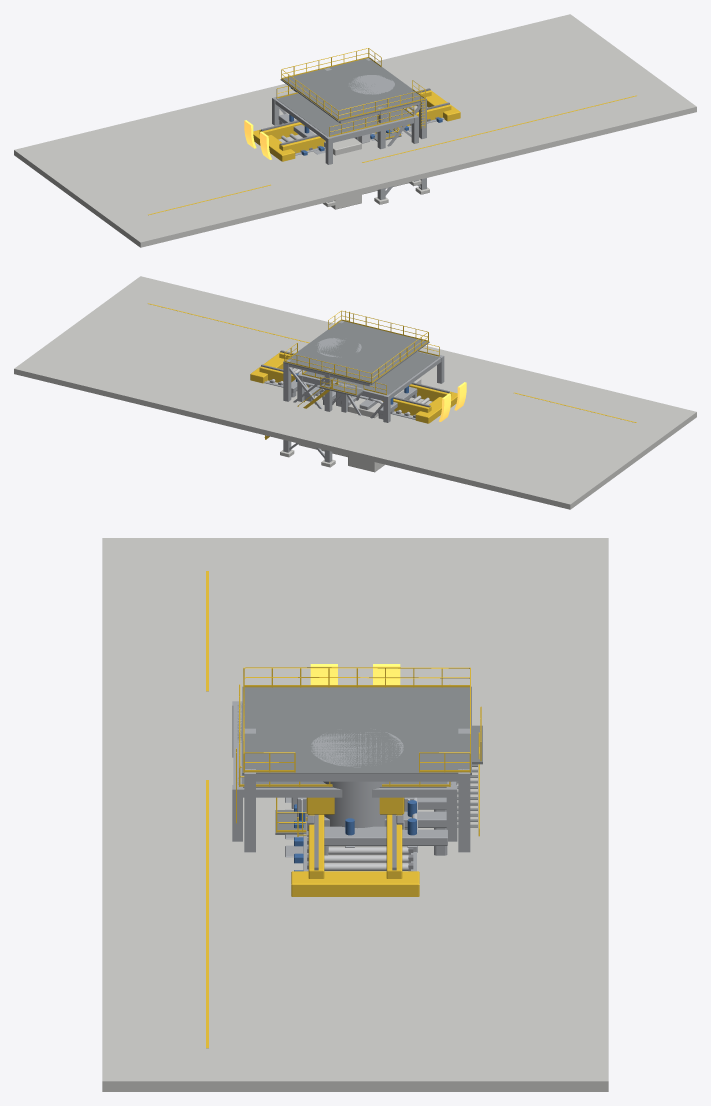
The model's file is continuous_casting.glb.
The picture shows the model from 3 angles, top to bottom: view 1: azimuth 30°, elevation 25°; view 2: azimuth 150°, elevation 25°; view 3: azimuth 270°, elevation 25°; orthographic projection. The views are drawn at different scales.
Parts seen in each view (by area): view 1: Floor_Slab, C1_Turret_Structure, C2_Casting_Floor, C1_Ladle_Crane, C4_Strands_Hot, C6_Runout_Roller_Table, C5_Withdrawal_Straightener; view 2: Floor_Slab, C1_Turret_Structure, C2_Casting_Floor, C1_Ladle_Crane, C5_Withdrawal_Straightener, C4_Strands_Hot; view 3: Floor_Slab, C1_Turret_Structure, C1_Ladle_Crane, C2_Casting_Floor, C5_Withdrawal_Straightener, C6_Runout_Roller_Table, C4_Strands_Hot.
Part boxes in pixels (x1,y1,x2,y2): Floor_Slab: (14,14,696,247); C1_Turret_Structure: (280,48,429,209); C2_Casting_Floor: (272,85,421,206); C1_Ladle_Crane: (253,88,460,161); C4_Strands_Hot: (244,120,271,159); C6_Runout_Roller_Table: (281,104,444,155); C5_Withdrawal_Straightener: (278,113,411,154); Floor_Slab: (14,276,696,509); C1_Turret_Structure: (280,310,429,472); C2_Casting_Floor: (264,344,444,439); C1_Ladle_Crane: (250,350,457,423); C5_Withdrawal_Straightener: (291,373,417,419); C4_Strands_Hot: (439,382,466,421); Floor_Slab: (102,538,608,1091); C1_Turret_Structure: (236,667,471,852); C1_Ladle_Crane: (291,797,419,896); C2_Casting_Floor: (232,684,482,841); C5_Withdrawal_Straightener: (285,797,447,857); C6_Runout_Roller_Table: (294,804,416,871); C4_Strands_Hot: (310,664,400,684).
Size of the model in its own units: 1081311 by 192176 by 425997.
